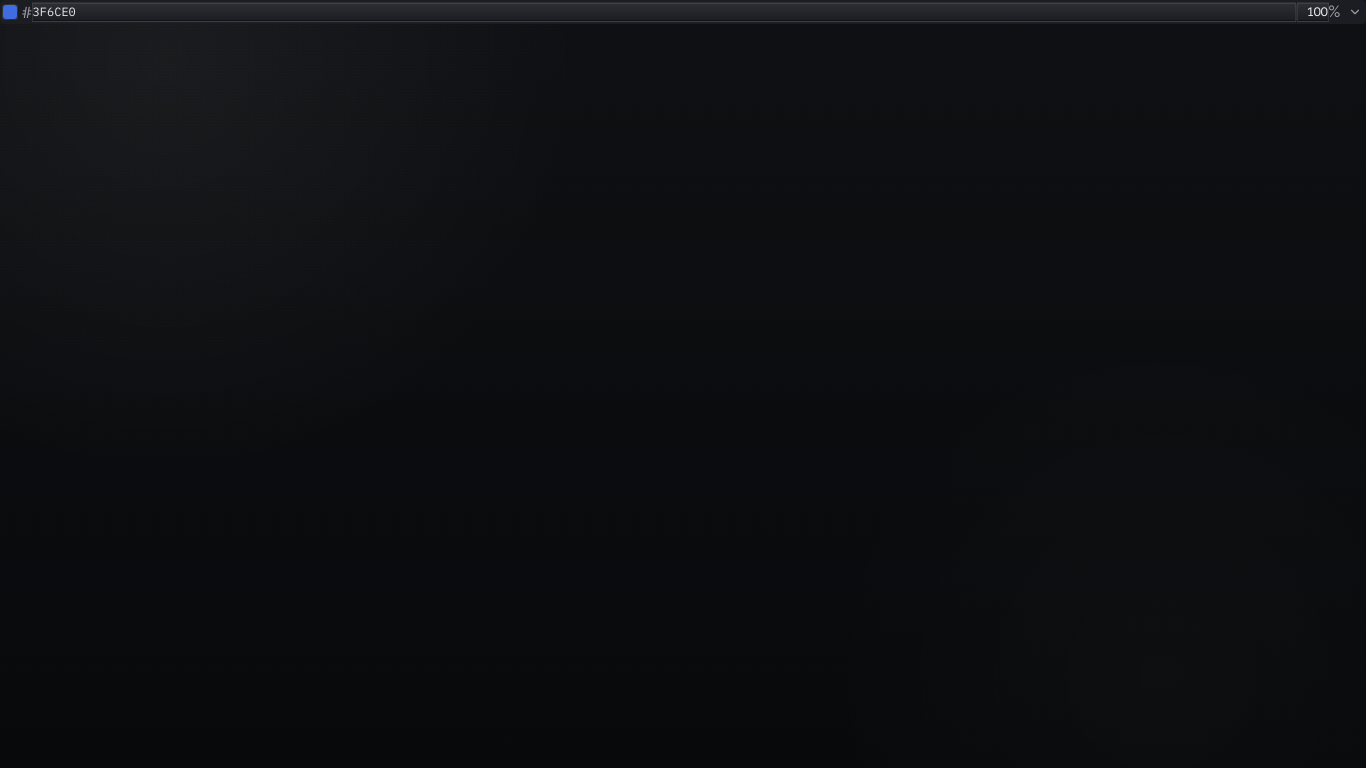
Test: StudioColorPicker › opens the OpenPencil surface: 2D area, hue and alpha sliders, format fields
Click the button named "Expand Paint picker": (1355, 12) [1344,1,1365,23]
(page scrolled)
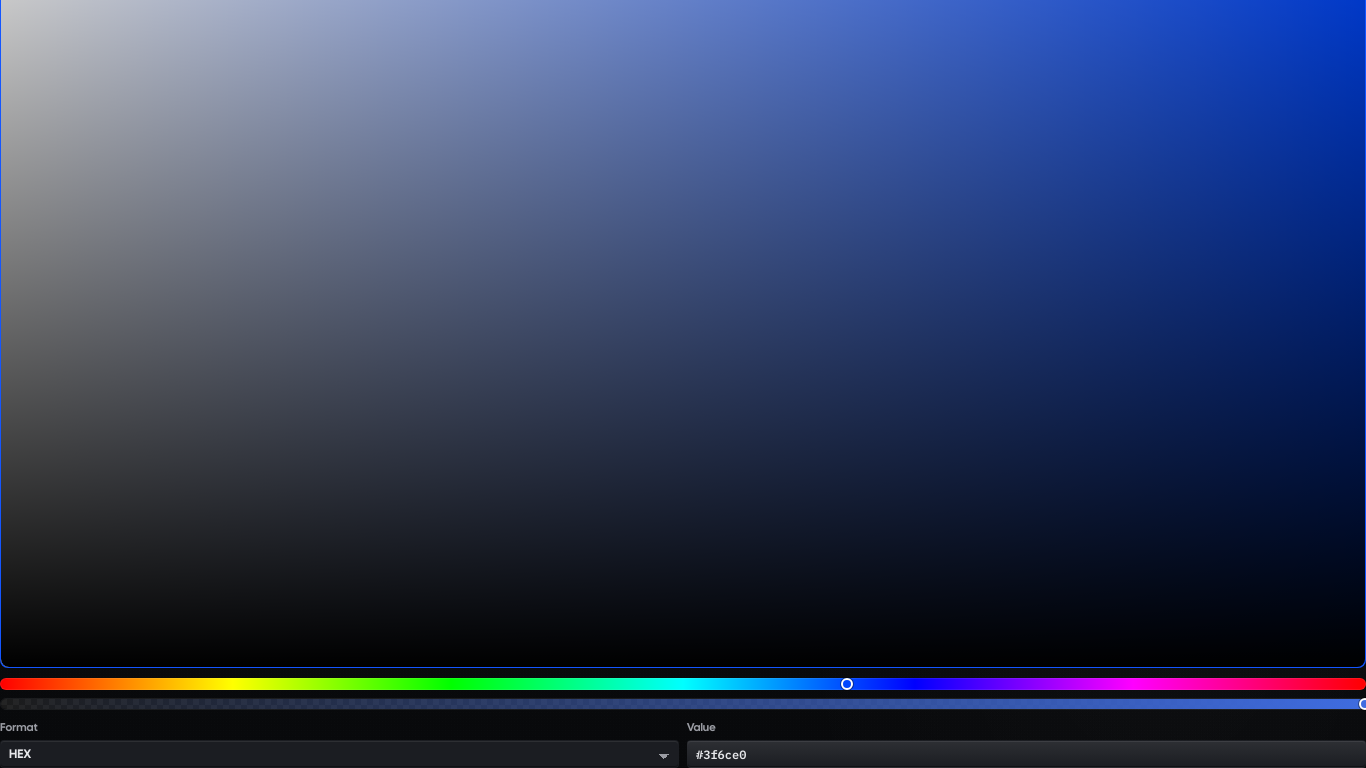
Expected: the dropdown named "Paint format" is shown, [0,740,679,767]
Expected: the field named "Paint hex value" holds "#3f6ce0", [687,740,1365,767]
